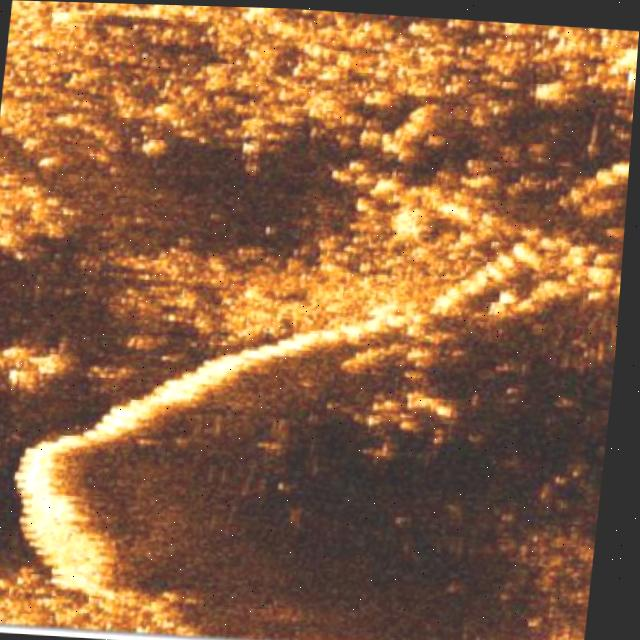bedrock group: (0, 0, 640, 442)
